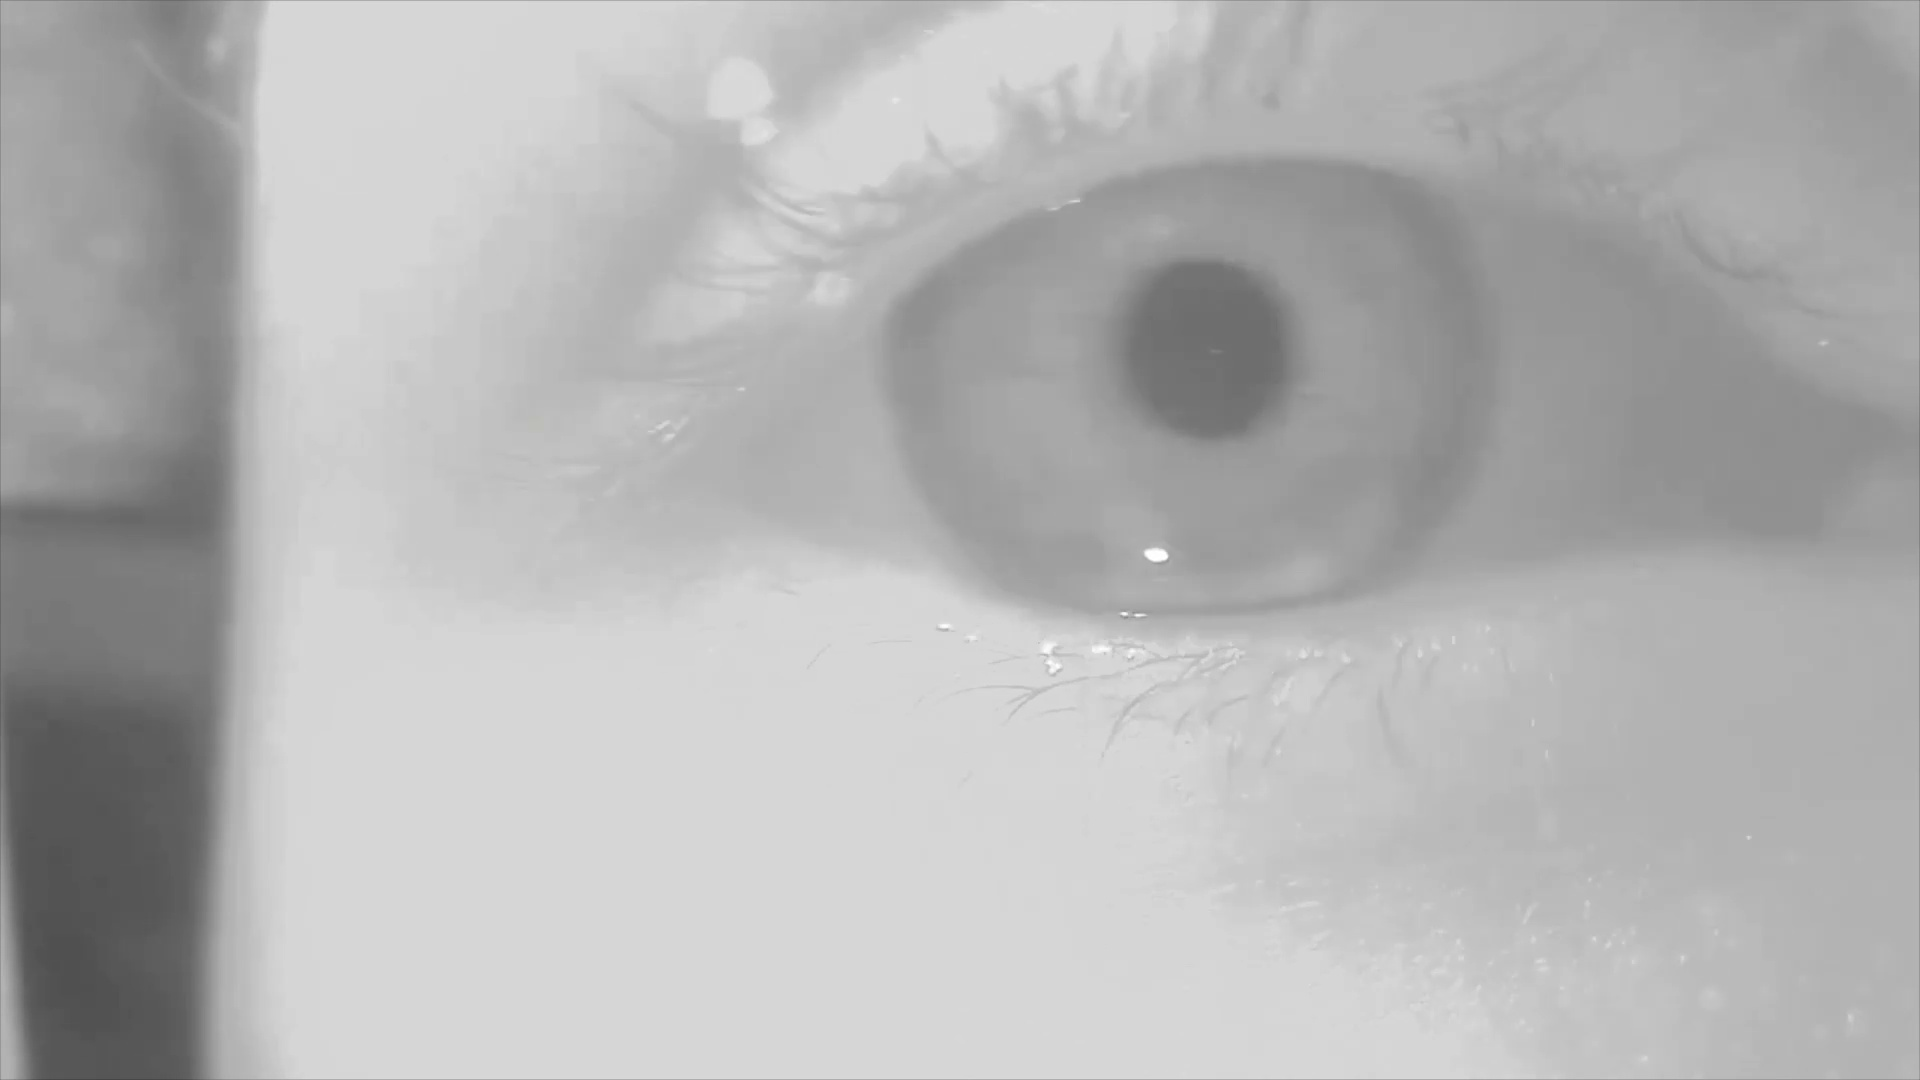pupil: (1133, 258, 1290, 447)
